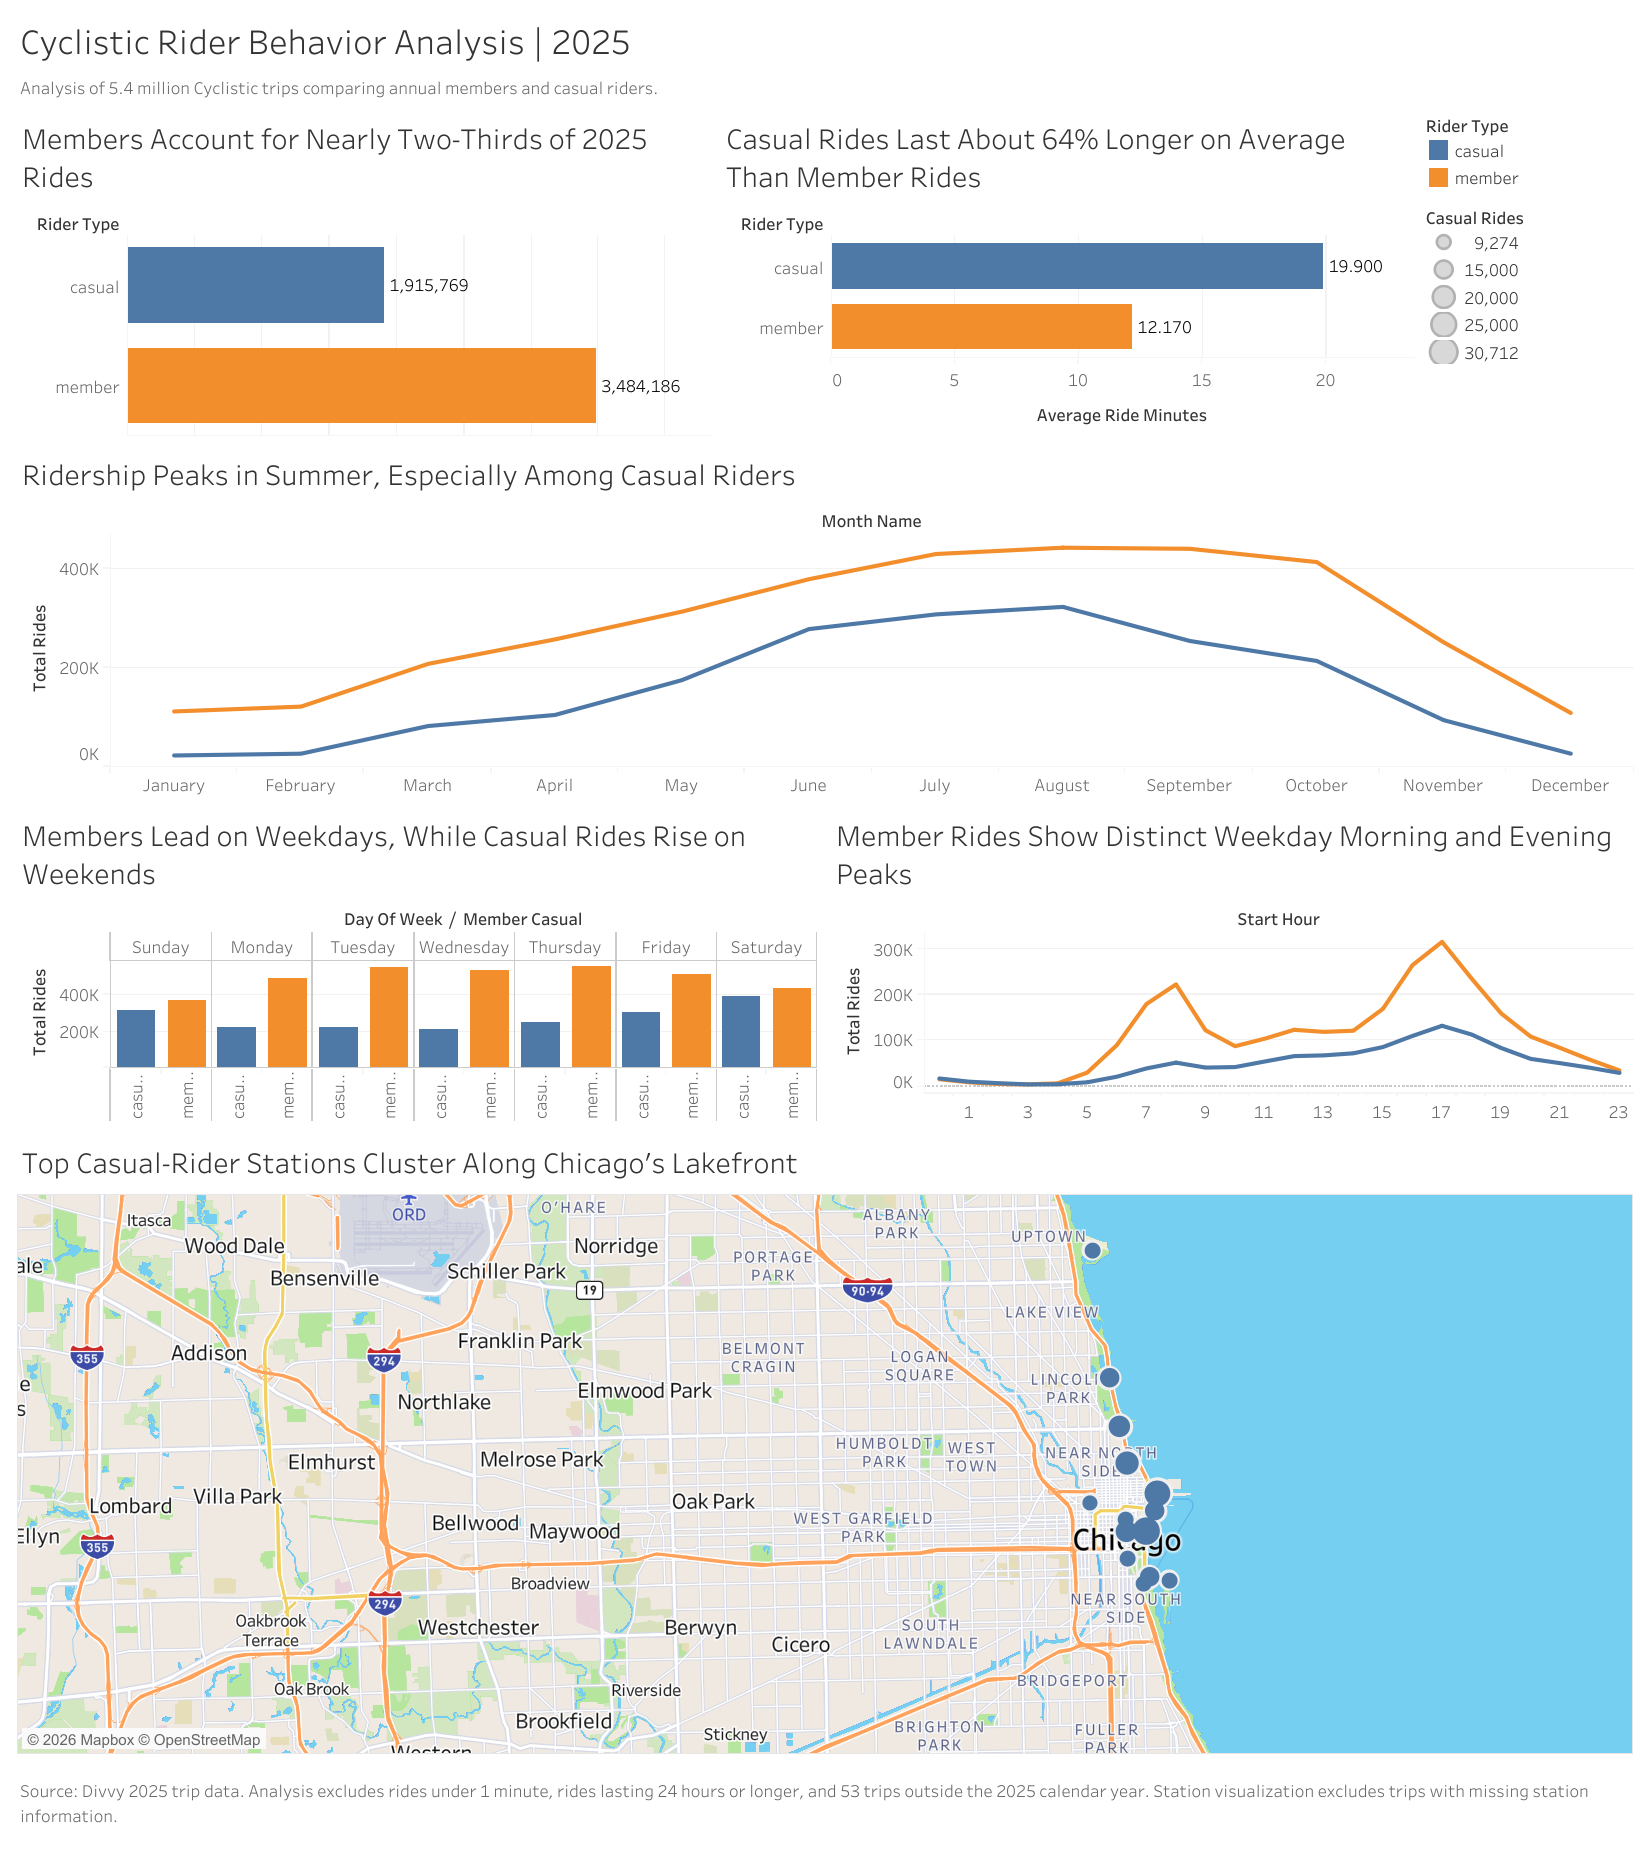

What the dashboard file says about the page in this screenshot:
{"tool":"tableau","page":{"name":"Cyclistic Rider Behavior Analysis | 2025","canvas":[1200,1350],"ordinal":0},"visuals":[{"type":"title","box":[8,8,1184,50]},{"type":"text","box":[8,58,1184,29]},{"type":"worksheet","title":"Rides by Rider Type","mark":"Automatic","rows":["member_casual"],"cols":["total_rides"],"box":[8,87,512,242.3]},{"type":"worksheet","title":"Average Ride Duration","mark":"Bar","rows":["member_casual"],"cols":["average_ride_minutes"],"box":[520,87,512,242.3]},{"type":"legend","title":"Rides by Rider Type","param":"[federated.0thl2er0idq4f4125rtrv1fej20a].[none:member_casual:nk]","box":[1032,87,160,72]},{"type":"legend","title":"Top Casual Stations","param":"[federated.0ovewe51kmj0v41fmsl3s1xkdzm3].[sum:total_rides:qk]","box":[1032,159,160,135]},{"type":"worksheet","title":"Monthly Ride Trends","mark":"Line","rows":["total_rides"],"cols":["month_name"],"box":[8,329.3,1184,260.2]},{"type":"worksheet","title":"Rides by Day of Week","mark":"Bar","rows":["total_rides"],"cols":["day_of_week","member_casual"],"box":[8,589.6,592,235.2]},{"type":"worksheet","title":"Weekday Hourly Patterns","mark":"Line","rows":["total_rides"],"cols":["start_hour"],"box":[600,589.6,592,235.2]},{"type":"worksheet","title":"Top Casual Stations","mark":"Circle","box":[8,824.8,1184,455.2]},{"type":"text","box":[8,1280,1184,62]}]}

Visuals, with their boxes in screenshot pixels (x1, y1, x2, y2), scaled from the page's 1200x1350 canvas onto the 1649x1855 screenshot:
title: 11,11,1638,80
text: 11,80,1638,120
"Rides by Rider Type" worksheet: 11,120,715,452
"Average Ride Duration" worksheet (Bar marks): 715,120,1418,452
"Rides by Rider Type" legend: 1418,120,1638,218
"Top Casual Stations" legend: 1418,218,1638,404
"Monthly Ride Trends" worksheet (Line marks): 11,452,1638,810
"Rides by Day of Week" worksheet (Bar marks): 11,810,824,1133
"Weekday Hourly Patterns" worksheet (Line marks): 824,810,1638,1133
"Top Casual Stations" worksheet (Circle marks): 11,1133,1638,1759
text: 11,1759,1638,1844
